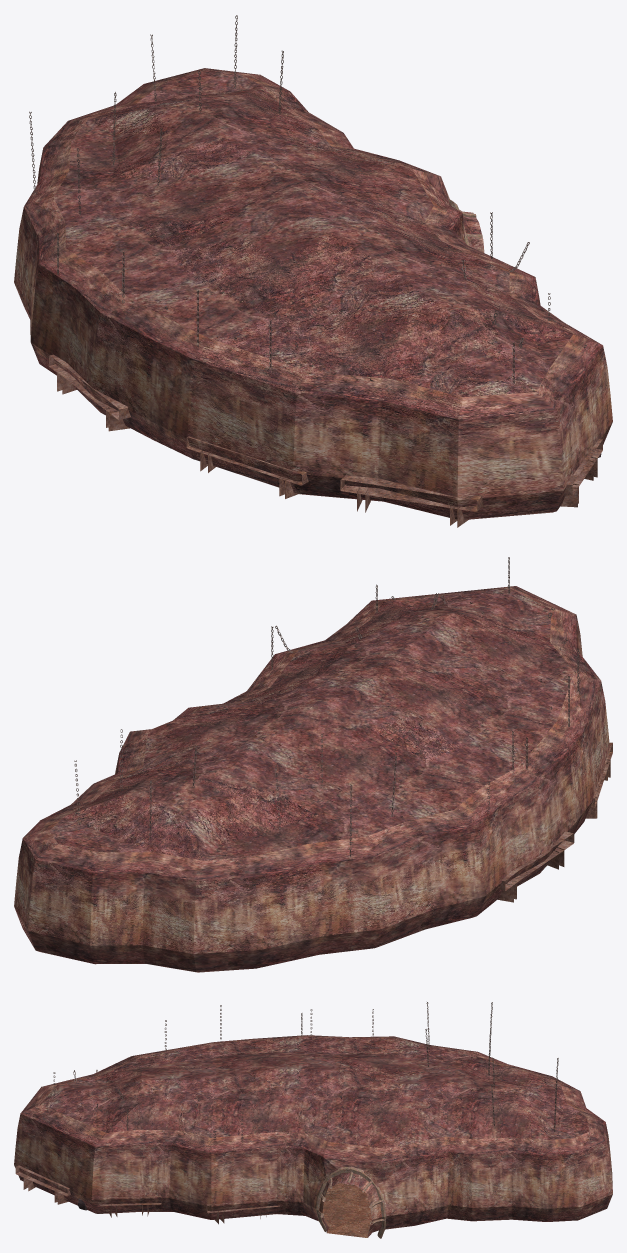
File: thm_dath_night_sister_stronghold_r12_mesh_r12.fbx
The picture shows the model from 3 angles, top to bottom: view 1: azimuth 30°, elevation 25°; view 2: azimuth 150°, elevation 25°; view 3: azimuth 270°, elevation 25°; orthographic projection. The views are drawn at different scales.
Visible parts, largest first — view 1: mesh_node; view 2: mesh_node; view 3: mesh_node.
Part boxes in pixels (box(x1,y1,x2,y2)): mesh_node: box(14, 15, 612, 527); mesh_node: box(14, 557, 612, 972); mesh_node: box(14, 1002, 612, 1238).
Size of the model in its own units: 16.49 by 7.37 by 30.23.
